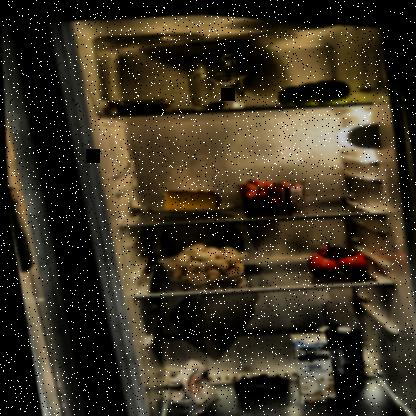apple: (274, 66, 355, 108)
blueberries: (228, 362, 285, 399)
cheese: (158, 179, 223, 215)
milk: (309, 313, 368, 393), (284, 324, 335, 402)
mushrooms: (148, 231, 253, 289)
shrimp: (110, 90, 171, 117)
strawberries: (233, 169, 309, 211)
tomato: (299, 228, 372, 280)
